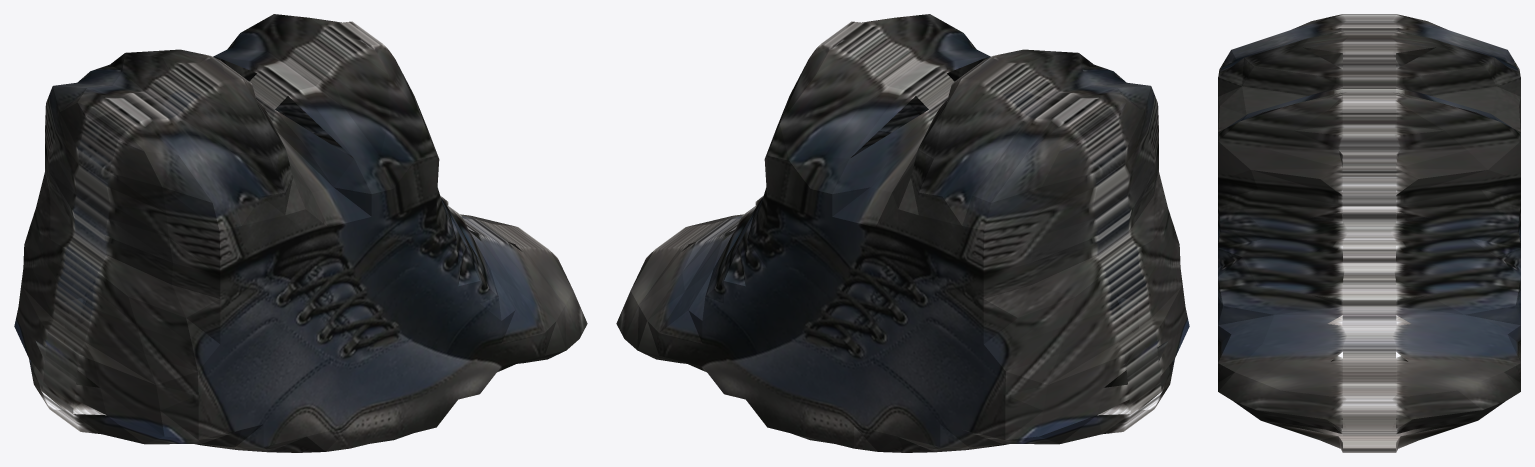
File: quad-lock-apex-sport-boot-139.glb
The picture shows the model from 3 angles, left to right: view 1: azimuth 30°, elevation 25°; view 2: azimuth 150°, elevation 25°; view 3: azimuth 270°, elevation 25°; orthographic projection. The views are drawn at different scales.
Visible parts, largest first — view 1: world; view 2: world; view 3: world.
Part boxes in pixels (left/top/right/bottom): world: left=14, top=14, right=587, bottom=452; world: left=616, top=14, right=1189, bottom=452; world: left=1218, top=14, right=1520, bottom=452.
Size of the model in its own units: 1 by 0.7345 by 0.62.
1 material, 1 textured.
